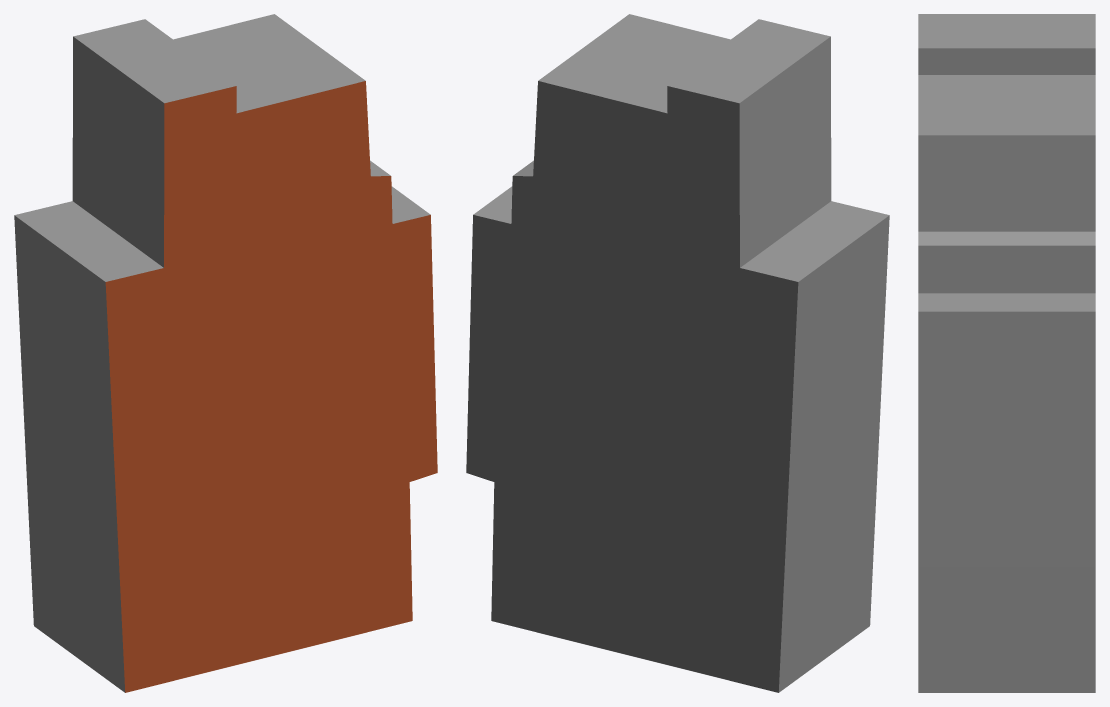
The model's file is construction_2894_assumed_A_Casa_h6m.obj.
The picture shows the model from 3 angles, left to right: view 1: azimuth 30°, elevation 25°; view 2: azimuth 150°, elevation 25°; view 3: azimuth 270°, elevation 25°; orthographic projection. The views are drawn at different scales.
Parts seen in each view (by area): view 1: construction_2894_assumed_A_Casa; view 2: construction_2894_assumed_A_Casa; view 3: construction_2894_assumed_A_Casa.
Part boxes in pixels (x1,y1,x2,y2): construction_2894_assumed_A_Casa: (14, 14, 437, 692); construction_2894_assumed_A_Casa: (466, 14, 889, 692); construction_2894_assumed_A_Casa: (918, 14, 1095, 692).
Bounding box in the file's own units: 12.59 × 21.02 × 6.
